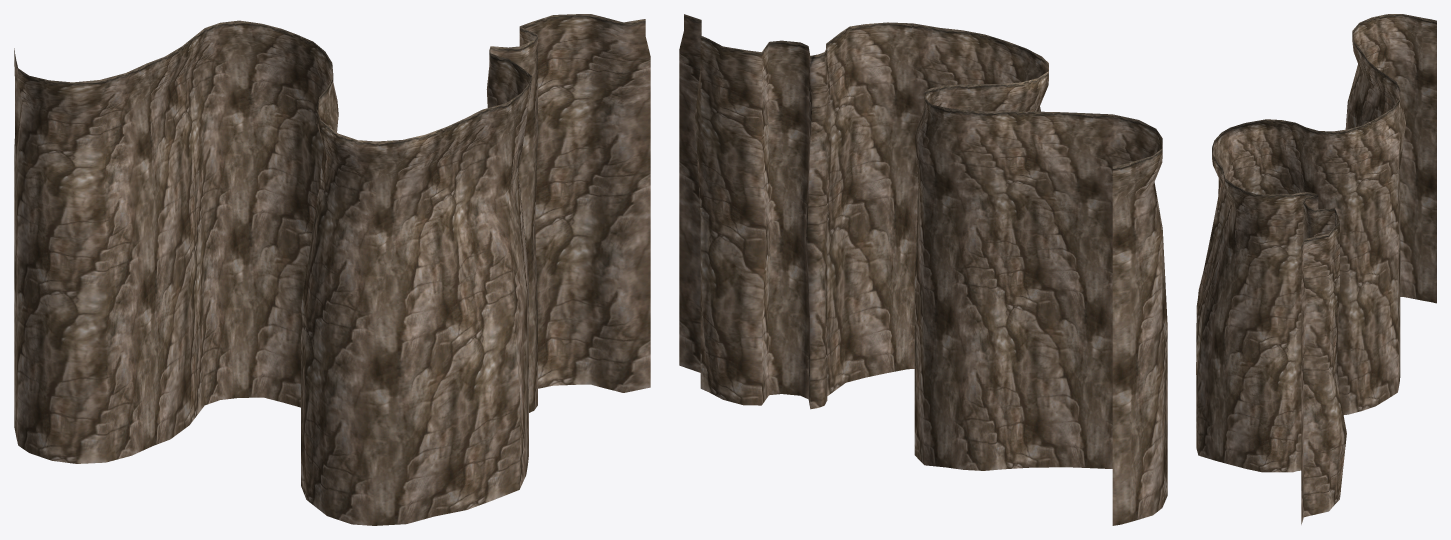
File: OVERHILL_A_01_OH_B_OBJECT41.fbx
3 renders of one model, left to right at view 1: azimuth 30°, elevation 25°; view 2: azimuth 150°, elevation 25°; view 3: azimuth 270°, elevation 25°, orthographic. The views are drawn at different scales.
Visible parts, largest first — view 1: OVERHILL_A_01_OH_B_OBJECT41; view 2: OVERHILL_A_01_OH_B_OBJECT41; view 3: OVERHILL_A_01_OH_B_OBJECT41.
Part boxes in pixels (x1,y1,x2,y2): OVERHILL_A_01_OH_B_OBJECT41: [14, 14, 650, 525]; OVERHILL_A_01_OH_B_OBJECT41: [679, 14, 1167, 525]; OVERHILL_A_01_OH_B_OBJECT41: [1196, 14, 1436, 524].
Size of the model in its own units: 335866 by 239976 by 165489.
Materials: 2 (2 with a texture image).
